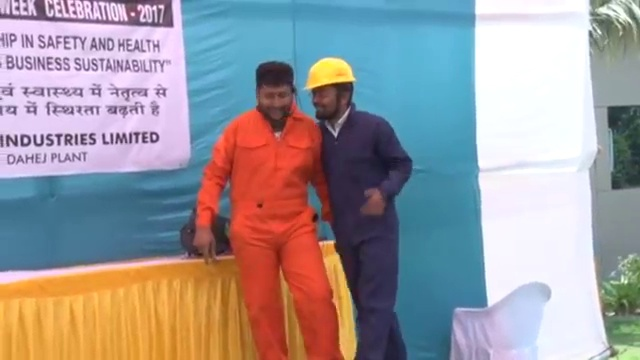helmet: (301, 55, 358, 91)
helmet_off: (255, 59, 298, 123)
helmet_on: (300, 54, 363, 123)
person: (193, 60, 343, 360), (299, 52, 410, 360)
